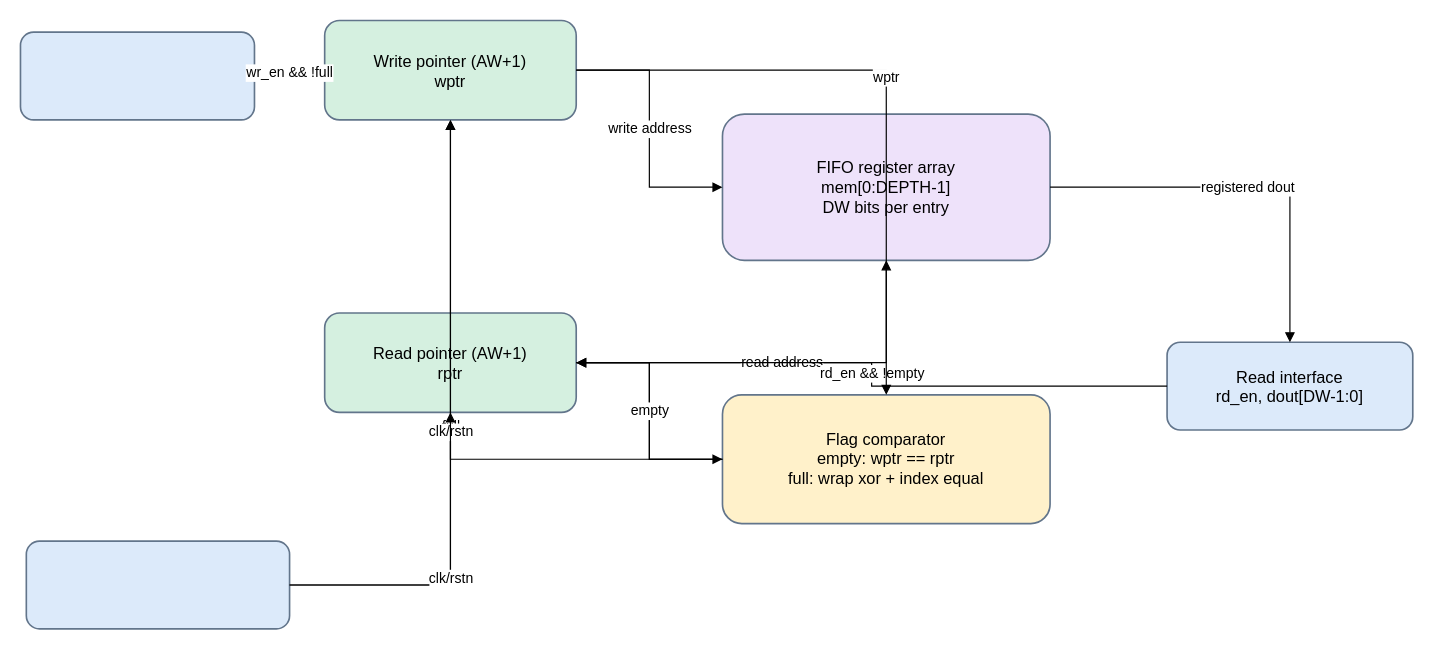
This 1434x651 diagram has some shape labels left out. Here are the shapes that lost their labels. From the top down, the centre of each, then its label:
[137,75]: Write interface wr_en, din[DW-1:0]
[157,584]: Single clk + synchronous active-low rstn
